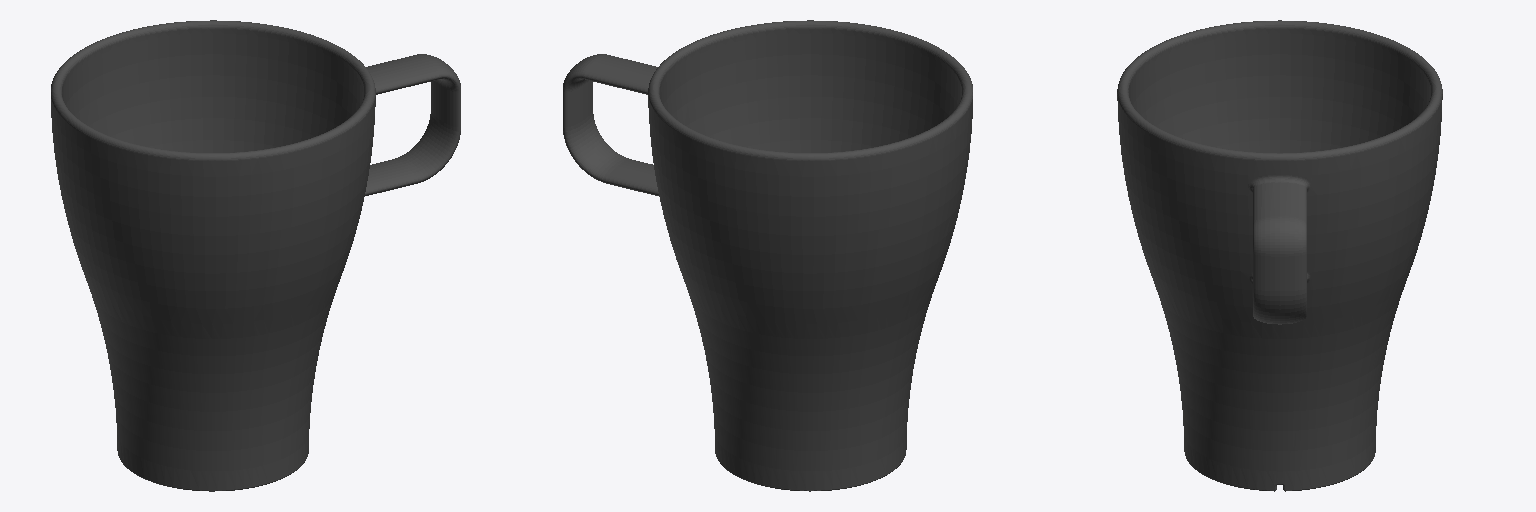
robot.urdf — mug00:
<?xml version="0.0" ?>
<robot name="mug00">
  <link name="mug_link">
    <inertial>
      <mass value="0.3"/>
      <inertia ixx="0.1" ixy="0.0" ixz="0.0" iyy="0.1" iyz="0.0" izz="0.1"/>
    </inertial>
    <visual>
      <origin rpy="0 0 0" xyz="0 0 0"/>
      <geometry>
        <mesh filename="mug.stl"/>
      </geometry>
      <material name="blue">
        <color rgba="0.35 0.35 0.35 1"/>
      </material>
    </visual>
    <collision>
      <origin rpy="0 0 0" xyz="0 0 0"/>
      <geometry>
        <mesh filename="mug.stl"/>
      </geometry>
    </collision>
  </link>
</robot>

--- Render facts (derived) ---
The picture shows the robot from 3 angles, left to right: view 1: azimuth 30°, elevation 25°; view 2: azimuth 150°, elevation 25°; view 3: azimuth 270°, elevation 25°; orthographic projection.
Robot: mug00 — 1 links, 0 joints (none); root link mug_link; default pose: all joints at 0.
Links seen in each view (by area): view 1: mug_link; view 2: mug_link; view 3: mug_link.
Boxes of the visible links, x1=… form: mug_link: x1=51, y1=20, x2=460, y2=491; mug_link: x1=563, y1=20, x2=972, y2=491; mug_link: x1=1117, y1=20, x2=1442, y2=491.
Size in the robot's own frame: 0.115 by 0.085 by 0.105 metres.
Meshes: 1 distinct files referenced, 1 mesh visuals loaded (1 binary STL).